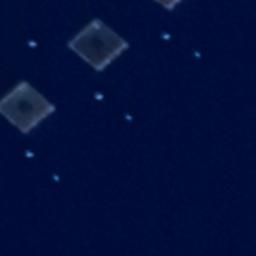square_cover: (64, 17, 133, 71), (1, 80, 57, 140)
